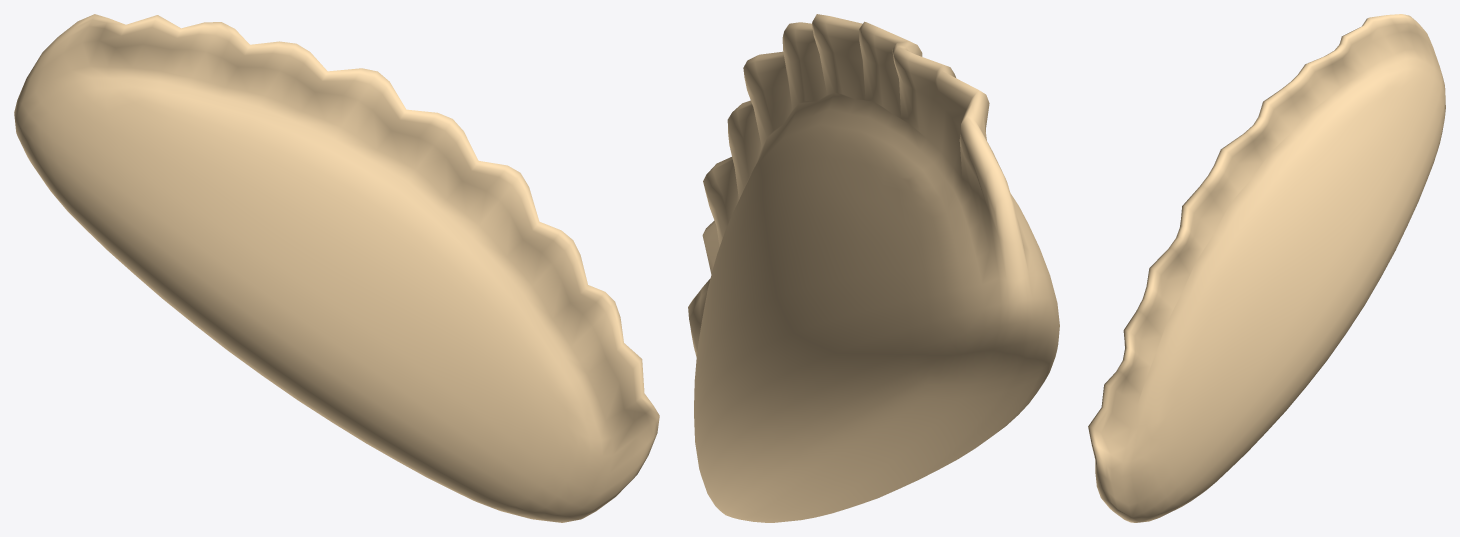
The model's file is dumpling.gltf.
3 renders of one model, left to right at view 1: azimuth 30°, elevation 25°; view 2: azimuth 150°, elevation 25°; view 3: azimuth 270°, elevation 25°, orthographic. The views are drawn at different scales.
Parts seen in each view (by area): view 1: Cube.431; view 2: Cube.431; view 3: Cube.431.
Boxes of the visible parts, x1,y1,x2,y2 form: Cube.431: (14, 14, 659, 522); Cube.431: (688, 14, 1059, 522); Cube.431: (1088, 14, 1445, 522).
Size of the model in its own units: 2.02 by 2.06 by 1.73.
Materials: 1 (1 with a texture image).
